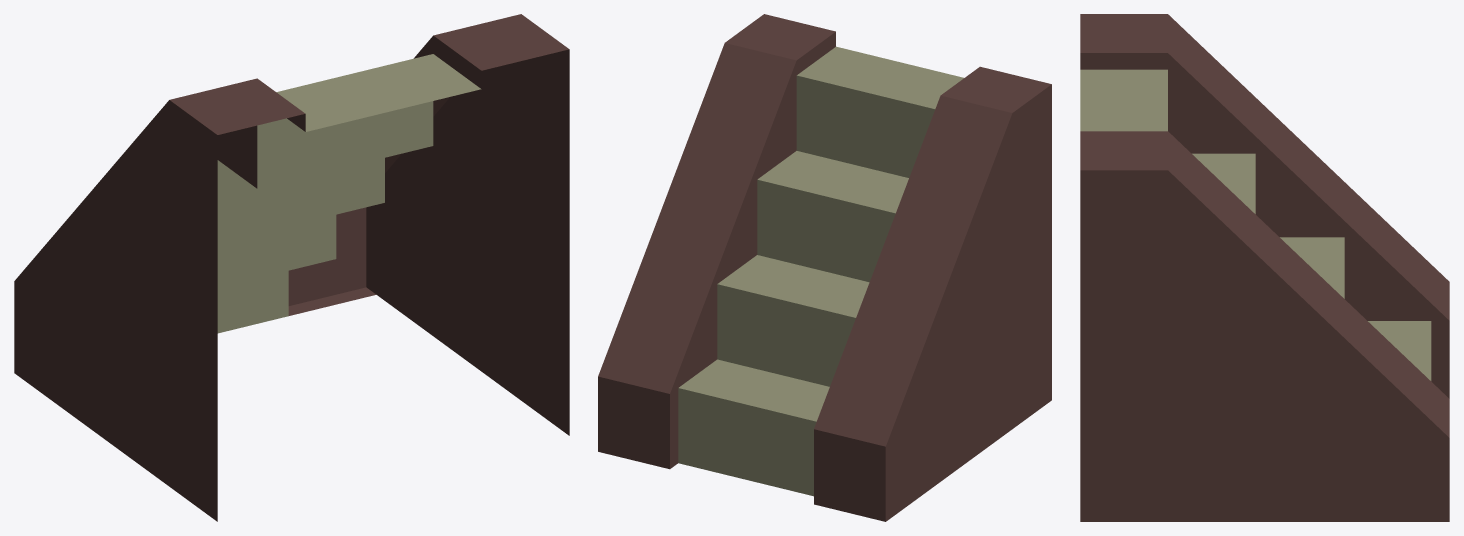
Rendered from StairLR.fbx.
3 renders of one model, left to right at view 1: azimuth 30°, elevation 25°; view 2: azimuth 150°, elevation 25°; view 3: azimuth 270°, elevation 25°, orthographic. The views are drawn at different scales.
Visible parts, largest first — view 1: StairLR; view 2: StairLR; view 3: StairLR.
Part boxes in pixels (bbox=[...]): StairLR: bbox=[14, 14, 569, 521]; StairLR: bbox=[598, 14, 1051, 521]; StairLR: bbox=[1080, 14, 1449, 521].
Size of the model in its own units: 1 by 1.05 by 1.
